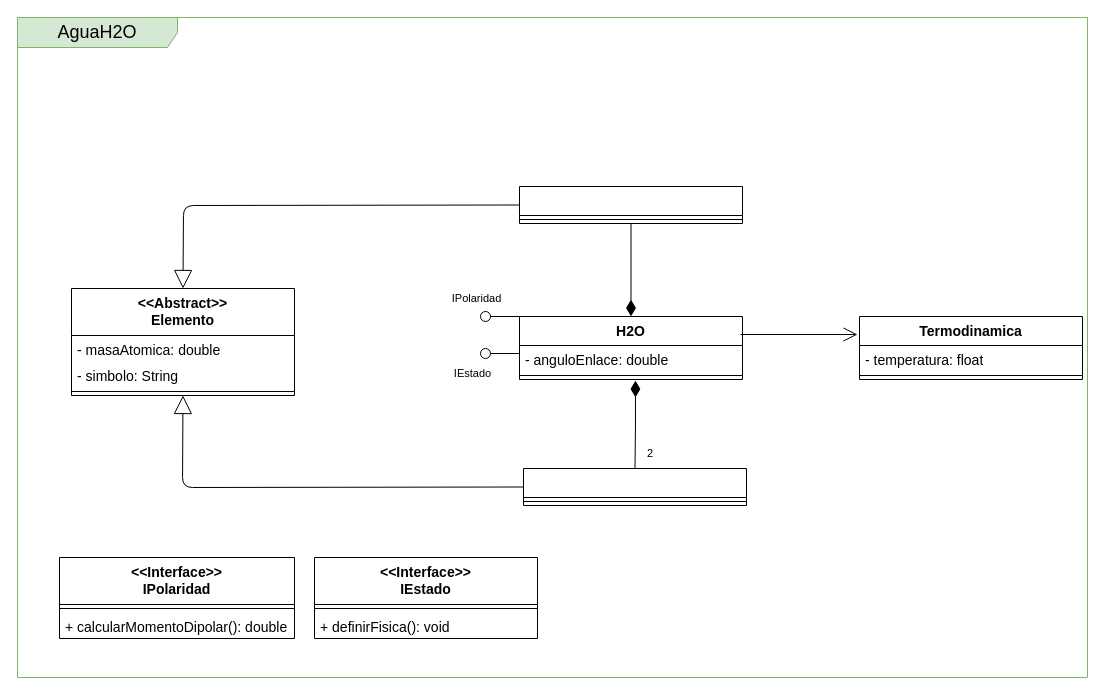
This 1105x695 diagram has some shape labels left out. The shapes that lost their labels are listed below. From the top down, each one's centre as x and y in pixels, then its label:
(x=630, y=205): Oxigeno
(x=634, y=487): Hidrogeno
